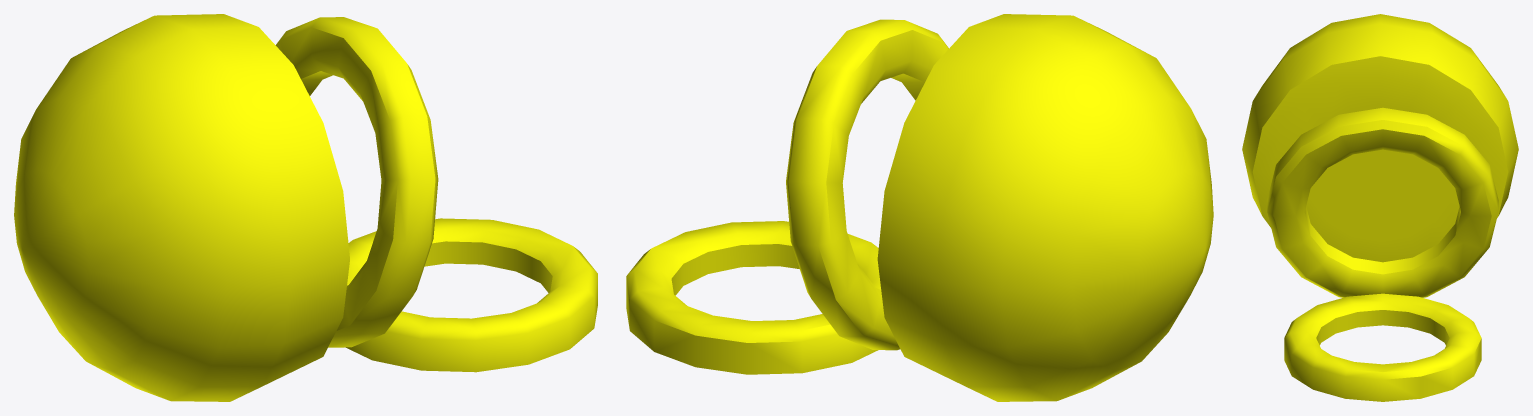
Rendered from kaykit-food-ingredient-onion-chopped.glb.
3 renders of one model, left to right at view 1: azimuth 30°, elevation 25°; view 2: azimuth 150°, elevation 25°; view 3: azimuth 270°, elevation 25°, orthographic. The views are drawn at different scales.
Parts seen in each view (by area): view 1: food_ingredient_onion_chopped; view 2: food_ingredient_onion_chopped; view 3: food_ingredient_onion_chopped.
Part boxes in pixels (bbox=[...]): food_ingredient_onion_chopped: bbox=[14, 14, 597, 401]; food_ingredient_onion_chopped: bbox=[626, 14, 1213, 401]; food_ingredient_onion_chopped: bbox=[1242, 14, 1518, 401].
Size of the model in its own units: 1.23 by 0.75 by 0.75.
